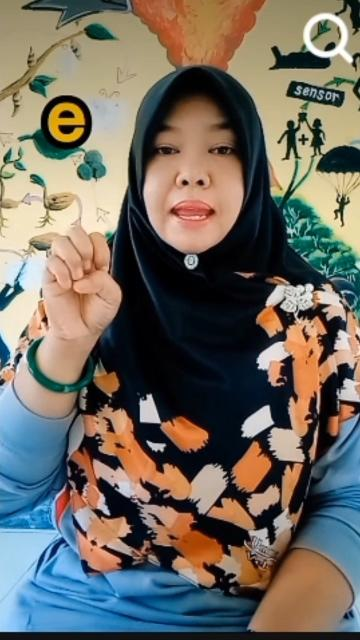E: (35, 220, 124, 350)
